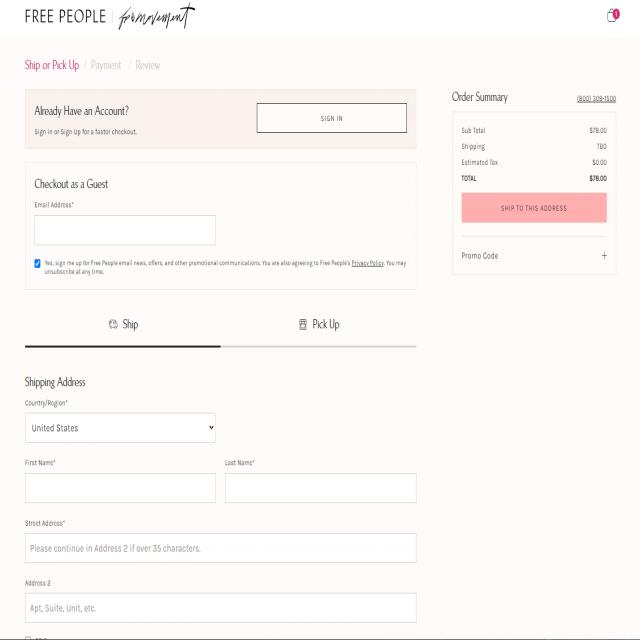sneaking: (24, 80, 423, 294), (30, 253, 409, 279), (461, 141, 610, 154)
